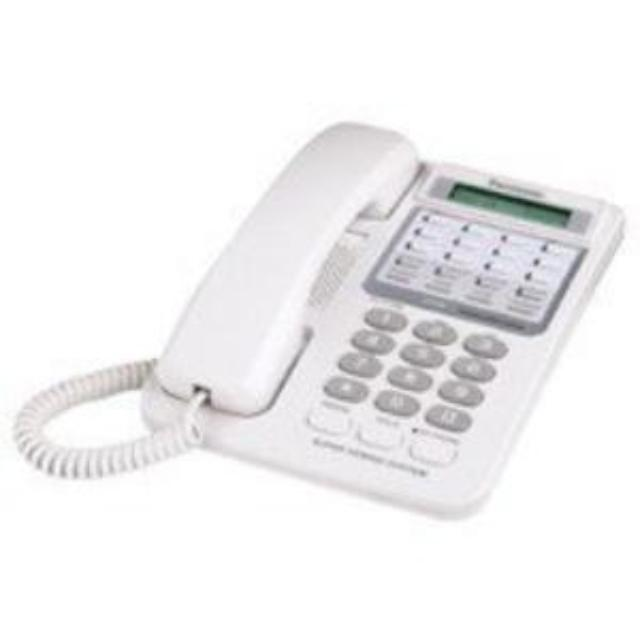Telephone-Set: (16, 119, 628, 519)
